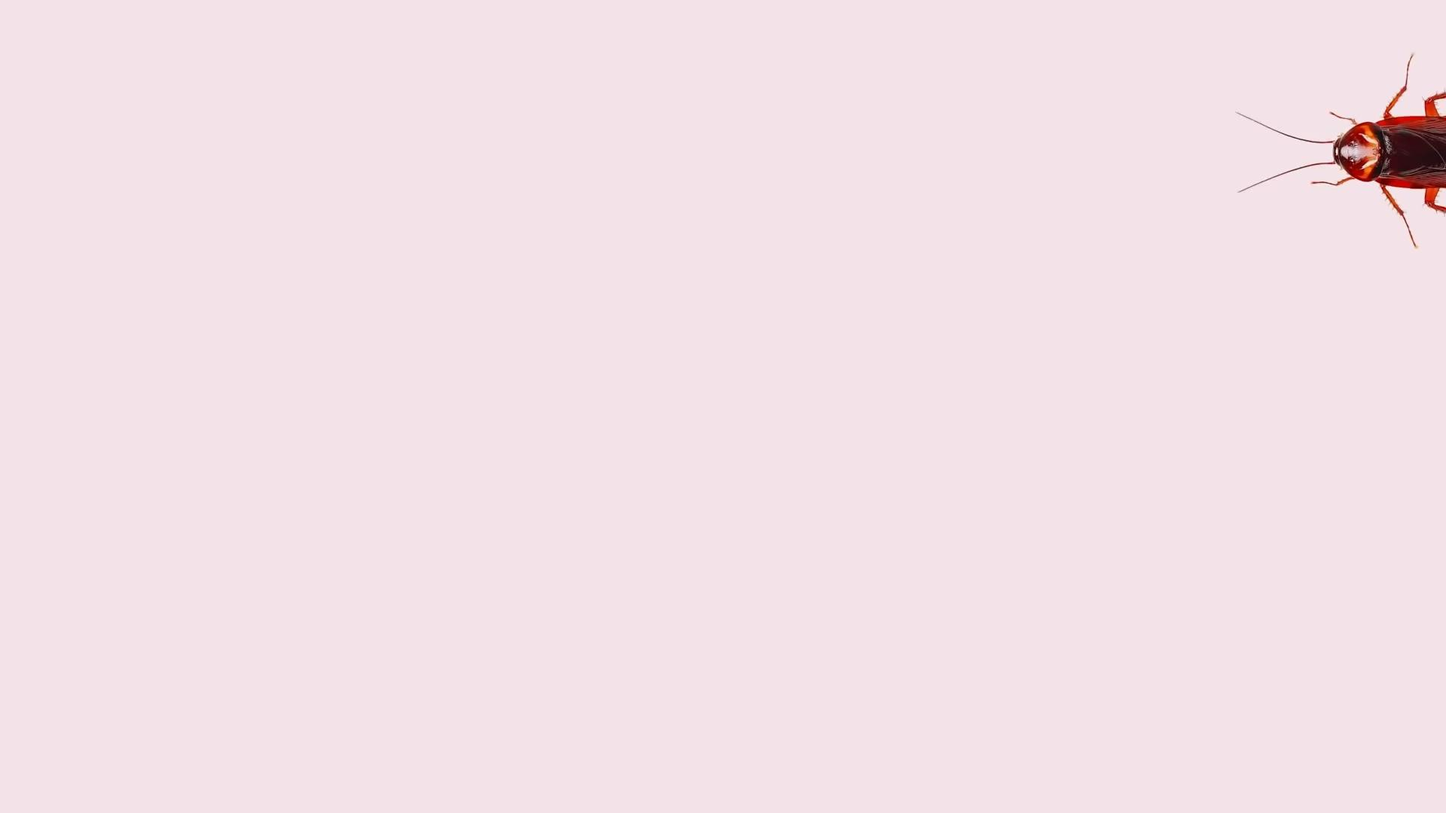cockroach: (1236, 90, 1446, 230)
